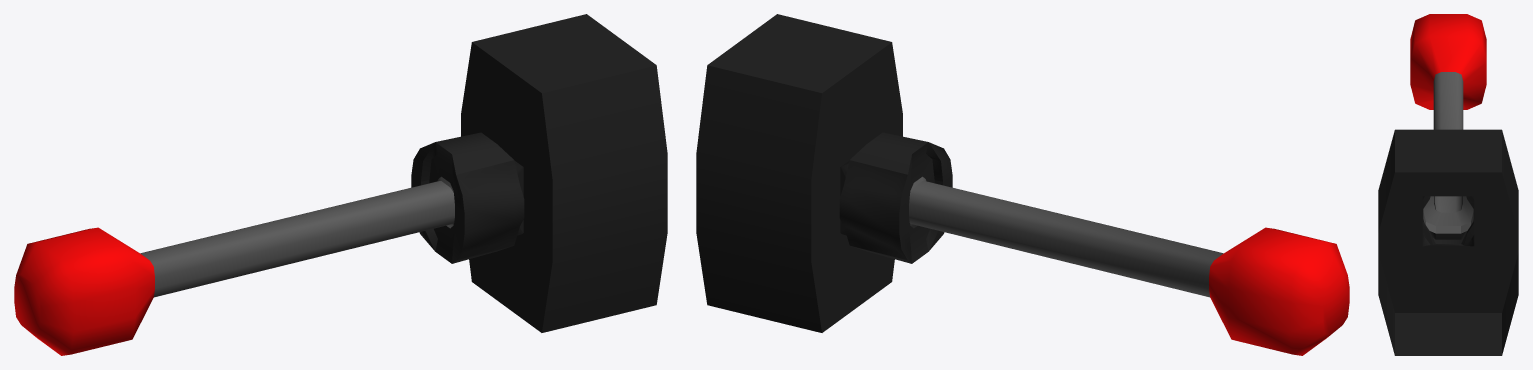
The model's file is Richag.fbx.
The picture shows the model from 3 angles, left to right: view 1: azimuth 30°, elevation 25°; view 2: azimuth 150°, elevation 25°; view 3: azimuth 270°, elevation 25°; orthographic projection. The views are drawn at different scales.
Visible parts, largest first — view 1: Box001, Object001; view 2: Box001, Object001; view 3: Box001, Object001.
Part boxes in pixels (x1,y1,x2,y2): Box001: (411,14,667,332); Object001: (14,176,454,355); Box001: (696,14,952,332); Object001: (909,176,1349,355); Box001: (1378,129,1518,355); Object001: (1410,14,1486,233).
Bounding box in the file's own units: 158 × 61.11 × 42.37.
